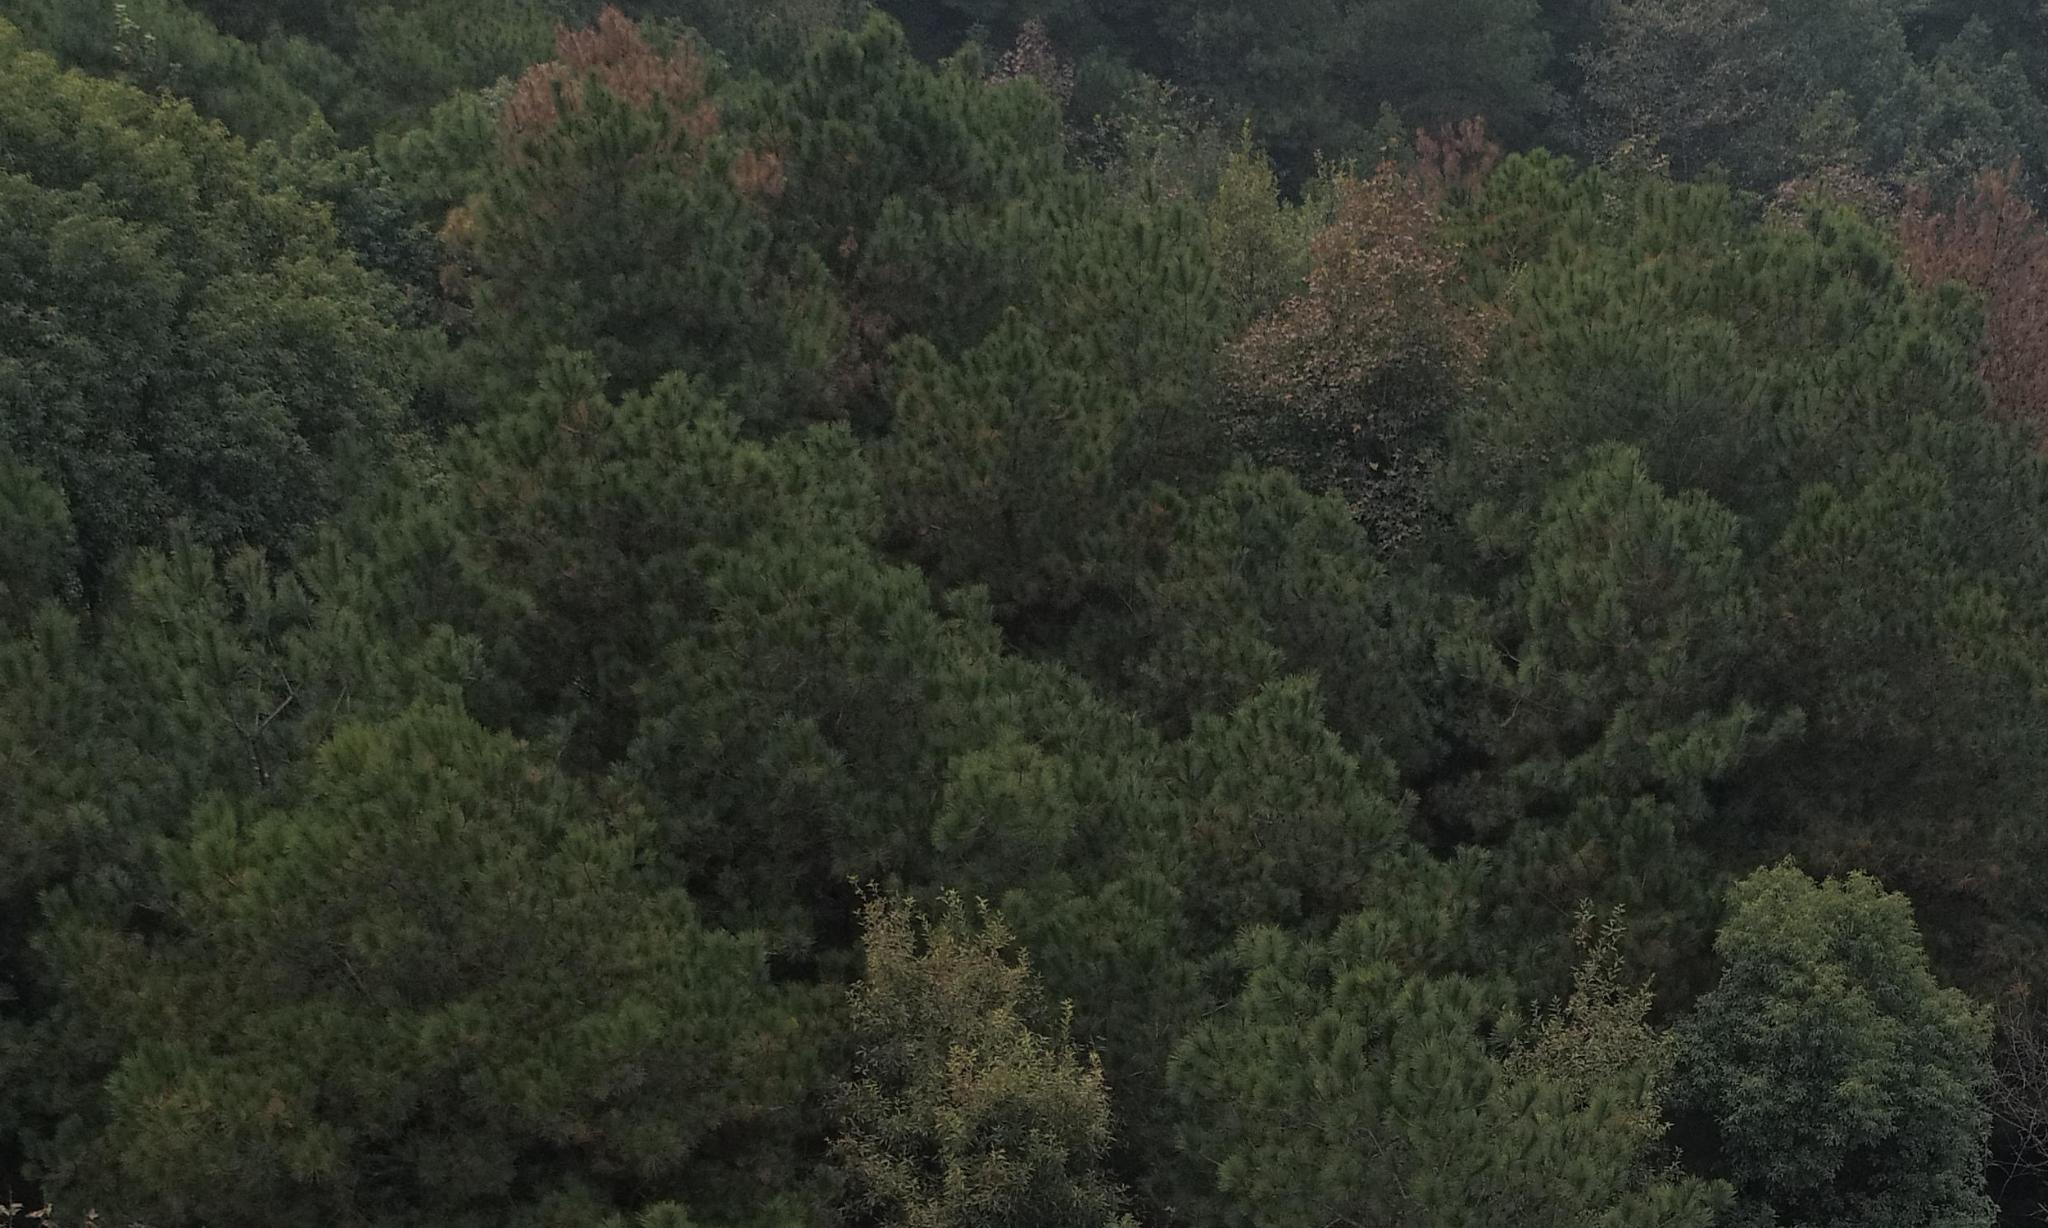heavy: (468, 0, 728, 156), (1887, 143, 2030, 401)
